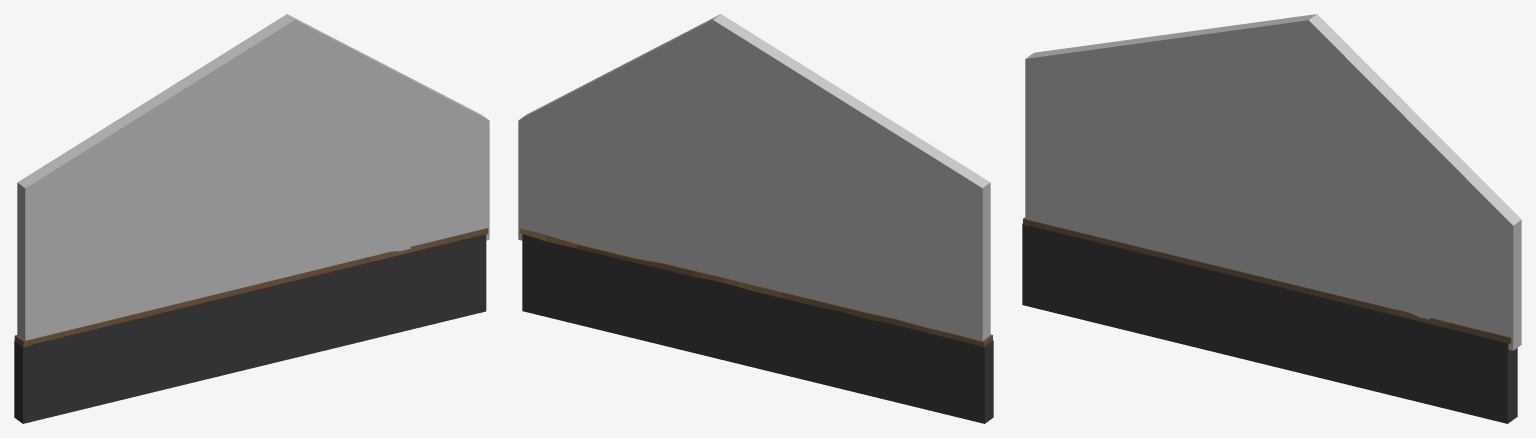
File: CaserioPared.fbx
The picture shows the model from 3 angles, left to right: view 1: azimuth 30°, elevation 25°; view 2: azimuth 150°, elevation 25°; view 3: azimuth 330°, elevation 25°; orthographic projection. The views are drawn at different scales.
Parts seen in each view (by area): view 1: Cube.197; view 2: Cube.197; view 3: Cube.197.
Boxes of the visible parts, x1=… form: Cube.197: x1=14, y1=14, x2=489, y2=423; Cube.197: x1=518, y1=14, x2=993, y2=423; Cube.197: x1=1022, y1=14, x2=1521, y2=423.
Size of the model in its own units: 2722 by 1879 by 104.
